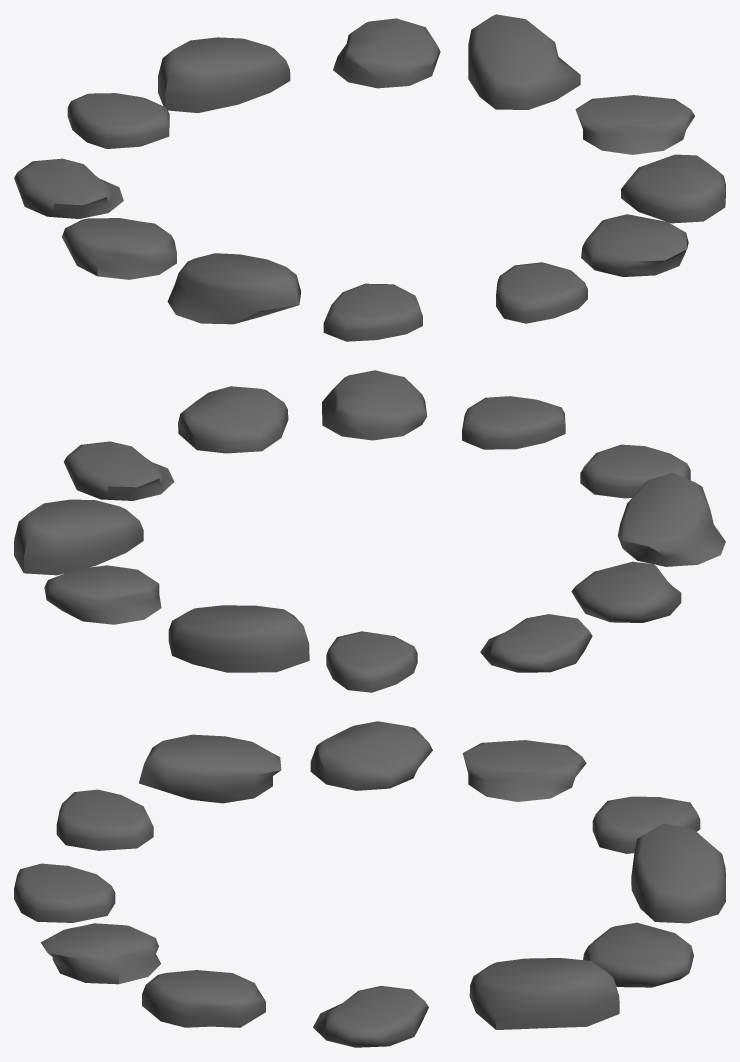
The model's file is Stone_FireRing.fbx.
3 renders of one model, top to bottom at view 1: azimuth 30°, elevation 25°; view 2: azimuth 150°, elevation 25°; view 3: azimuth 270°, elevation 25°, orthographic. The views are drawn at different scales.
Visible parts, largest first — view 1: Cylinder_0; view 2: Cylinder_0; view 3: Cylinder_0.
Part boxes in pixels (bbox=[...]): Cylinder_0: bbox=[14, 14, 725, 341]; Cylinder_0: bbox=[14, 370, 725, 692]; Cylinder_0: bbox=[14, 721, 725, 1047].
Size of the model in its own units: 241 by 16.02 by 236.
1 material, 1 textured.
